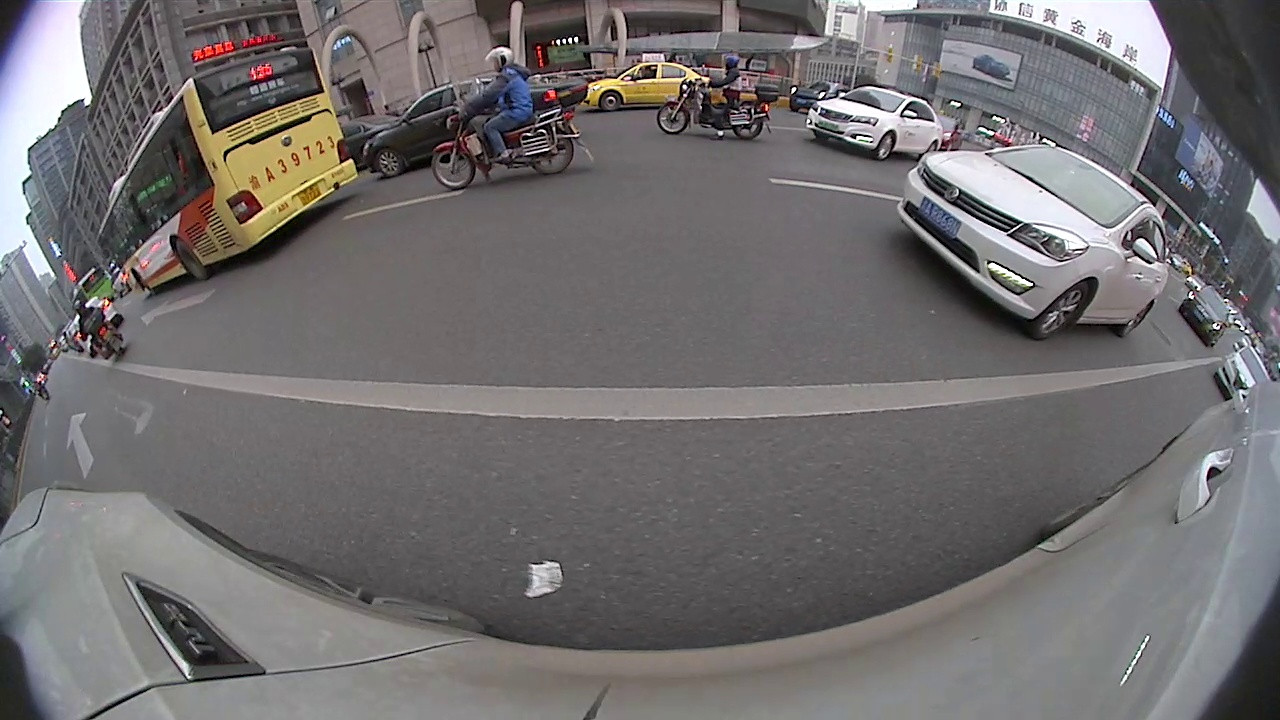bus: (97, 42, 364, 293)
car: (895, 138, 1173, 337), (363, 73, 516, 182), (805, 86, 945, 161), (582, 51, 712, 116), (1214, 344, 1272, 405), (1179, 286, 1233, 349)
front: (1027, 277, 1090, 344), (429, 143, 477, 192), (655, 99, 691, 137), (375, 147, 403, 179), (872, 132, 896, 163), (598, 89, 623, 112)
rear: (529, 137, 577, 176), (172, 237, 209, 281), (1118, 300, 1157, 340), (731, 118, 764, 143)
rider: (428, 51, 588, 187), (657, 53, 780, 138), (74, 297, 127, 362)
